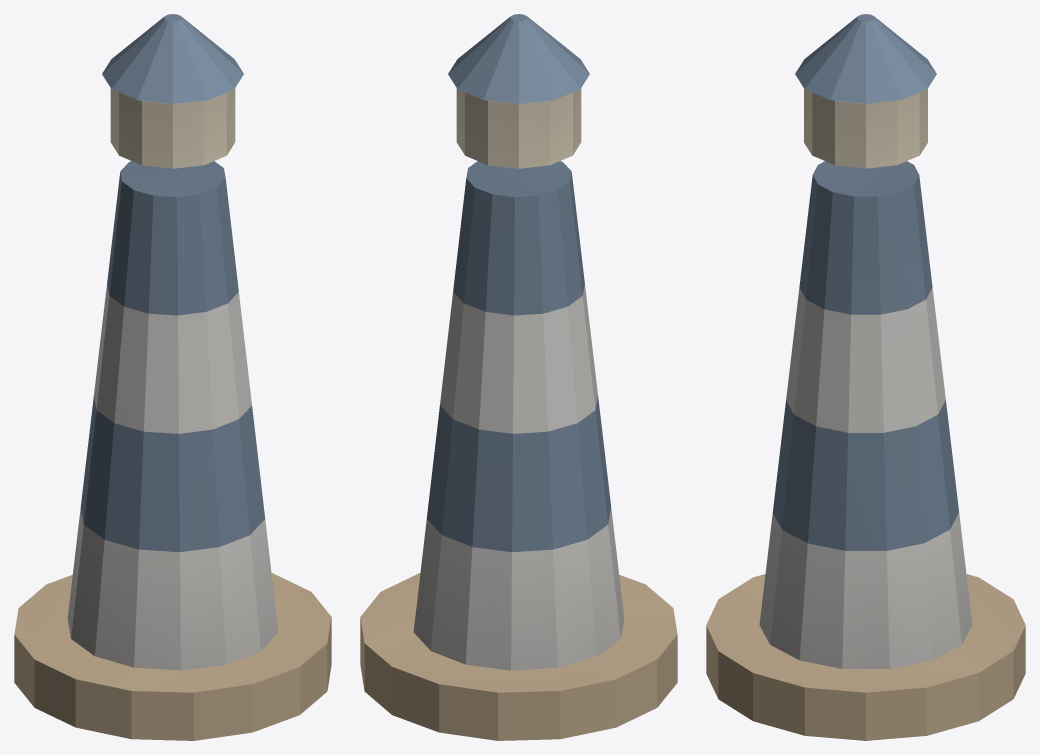
Rendered from furn_mini_lighthouse__navy.glb.
The picture shows the model from 3 angles, left to right: view 1: azimuth 30°, elevation 25°; view 2: azimuth 150°, elevation 25°; view 3: azimuth 270°, elevation 25°; orthographic projection.
Size of the model in its own units: 0.36 by 0.815 by 0.36.
